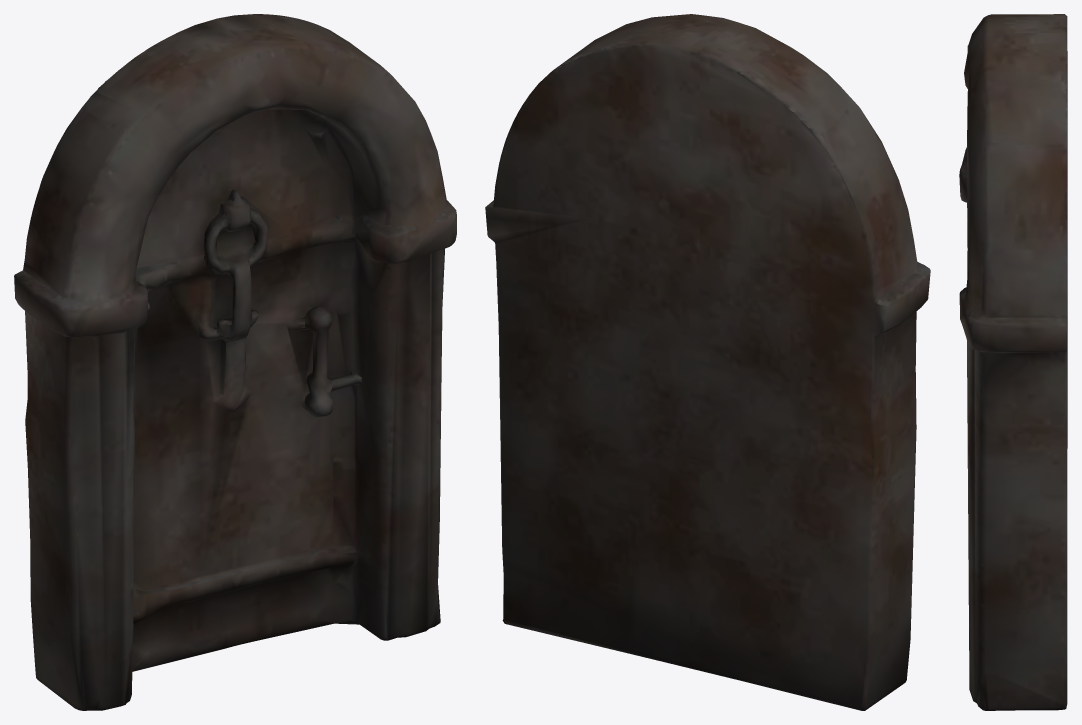
The model's file is ancient-iron-castle-door-v001.glb.
3 renders of one model, left to right at view 1: azimuth 30°, elevation 25°; view 2: azimuth 150°, elevation 25°; view 3: azimuth 270°, elevation 25°, orthographic. The views are drawn at different scales.
Visible parts, largest first — view 1: ancient-iron-castle-door; view 2: ancient-iron-castle-door; view 3: ancient-iron-castle-door.
Boxes of the visible parts, x1=… form: ancient-iron-castle-door: x1=14, y1=14, x2=456, y2=710; ancient-iron-castle-door: x1=485, y1=14, x2=930, y2=710; ancient-iron-castle-door: x1=959, y1=14, x2=1067, y2=710.
Size of the model in its own units: 1.94 by 2.82 by 0.4659.
Materials: 1 (1 with a texture image).
